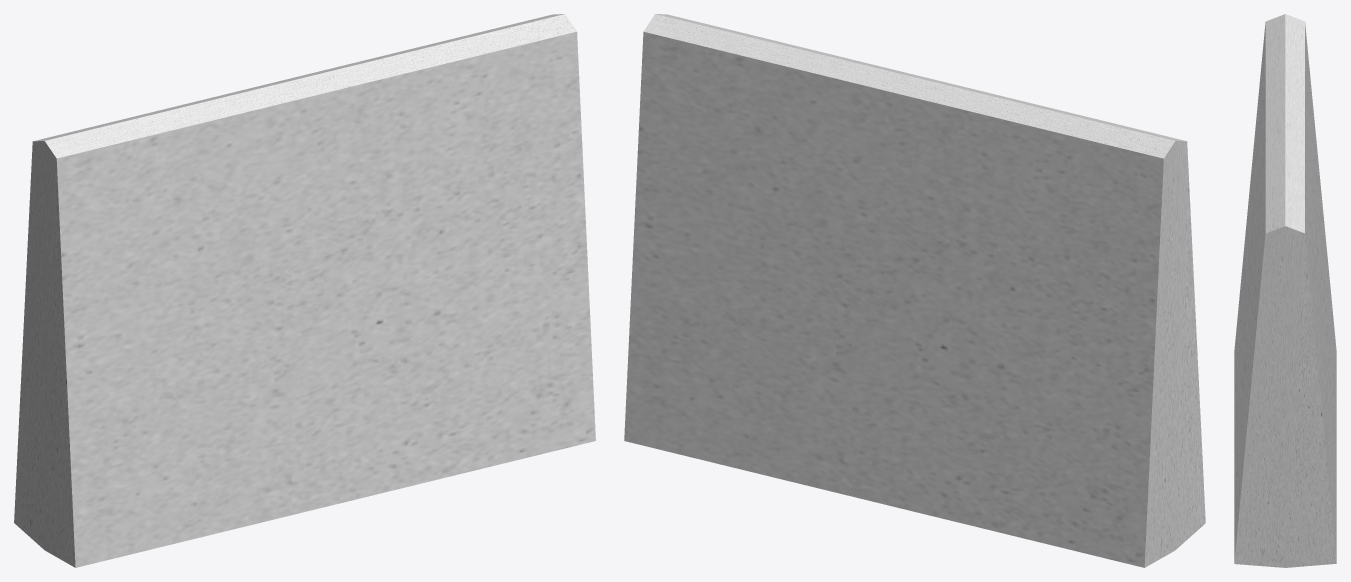
Rendered from dossier1.fbx.
The picture shows the model from 3 angles, left to right: view 1: azimuth 30°, elevation 25°; view 2: azimuth 150°, elevation 25°; view 3: azimuth 270°, elevation 25°; orthographic projection. The views are drawn at different scales.
Parts seen in each view (by area): view 1: dossier1; view 2: dossier1; view 3: dossier1.
Boxes of the visible parts, x1,y1,x2,y2 form: dossier1: (14,14,595,567); dossier1: (624,14,1205,567); dossier1: (1234,14,1336,567).
Size of the model in its own units: 124 by 92.82 by 25.2.
1 material, 1 textured.
